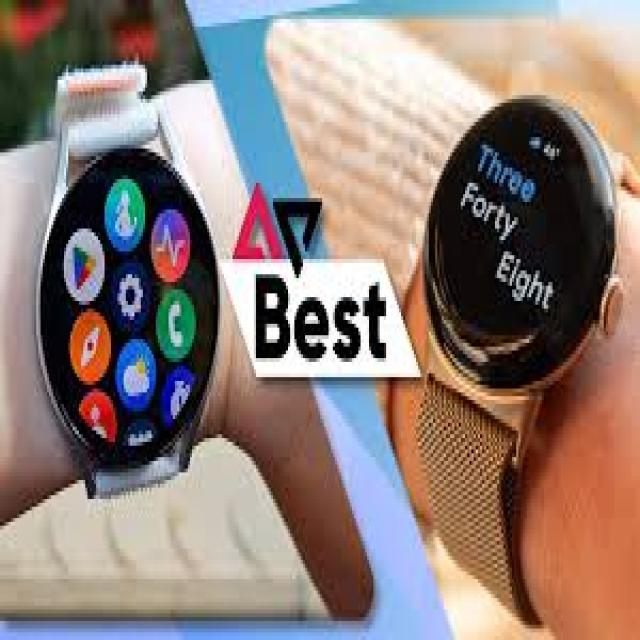objects: (32, 62, 222, 492), (416, 87, 624, 444)
